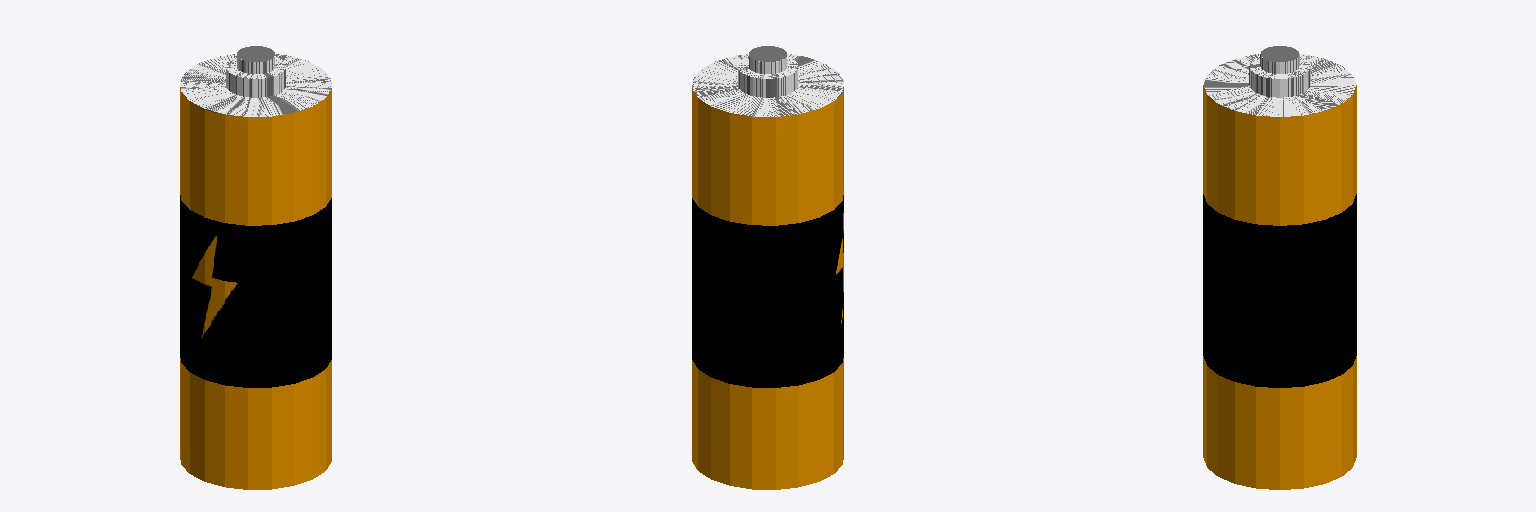
The picture shows the model from 3 angles: view 1: azimuth 30°, elevation 25°; view 2: azimuth 150°, elevation 25°; view 3: azimuth 270°, elevation 25°; orthographic projection.
Visible parts, largest first — view 1: pCylinder1; view 2: pCylinder1; view 3: pCylinder1.
Boxes of the visible parts, x1=… form: pCylinder1: x1=180, y1=46, x2=331, y2=489; pCylinder1: x1=692, y1=46, x2=843, y2=489; pCylinder1: x1=1203, y1=46, x2=1356, y2=489.
Bounding box in the file's own units: 2 × 5.82 × 2.
1 materials, 1 textured.